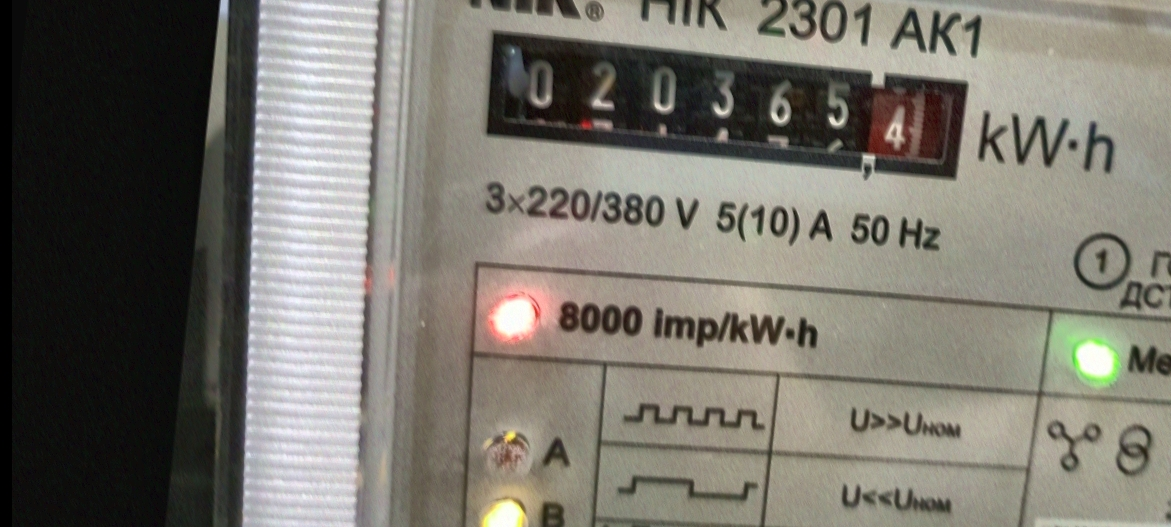0: (523, 55, 562, 113), (649, 65, 683, 117)
2: (587, 59, 623, 112)
3: (708, 69, 741, 121)
4: (882, 102, 910, 152)
5: (824, 81, 856, 131)
6: (767, 75, 797, 128)
screen: (468, 13, 987, 203)
